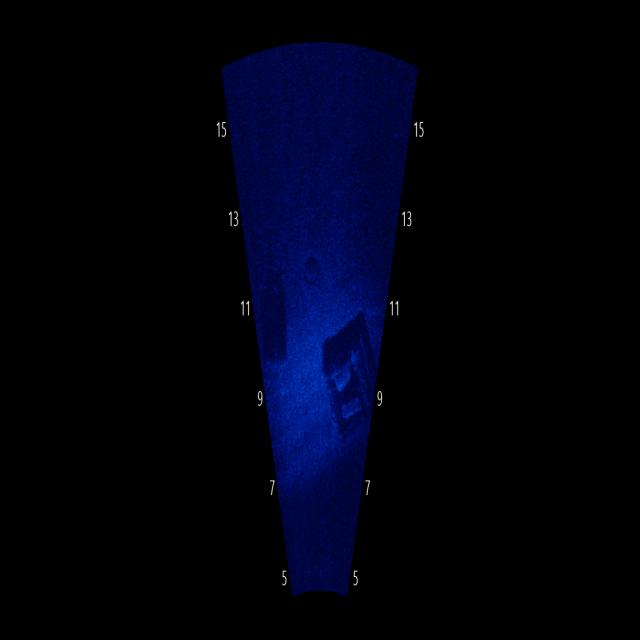square: (318, 310, 376, 457), (259, 270, 293, 375)
